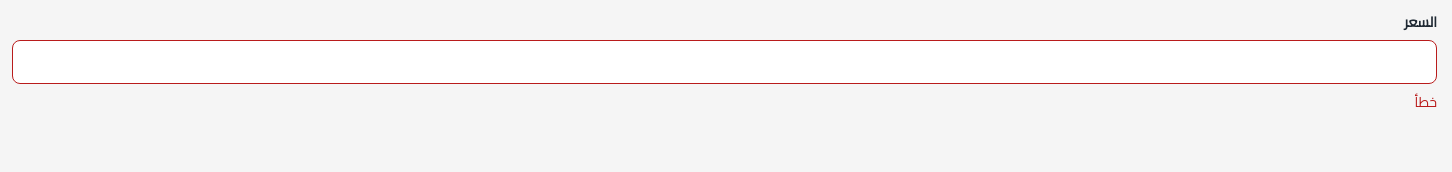
Test: forwards the ref and preserves labels, errors and react-hook-form changes
Type "۱۲٫۳" into the field labelled "السعر" at (724, 62), box [12,40,1437,84]
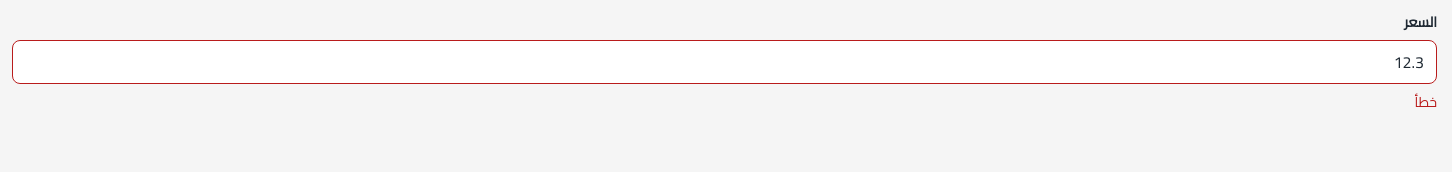
Check: the message reads "خطأ", box [1415,89,1437,115]
Check: the field labelled "السعر" holds "12.3", box [12,40,1437,84]
